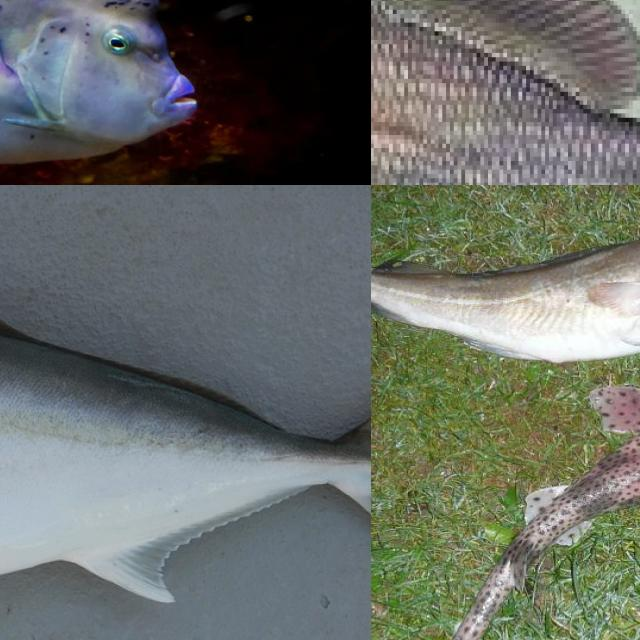fish: (0, 256, 371, 631), (0, 0, 371, 185), (371, 0, 640, 185), (371, 185, 640, 364)
